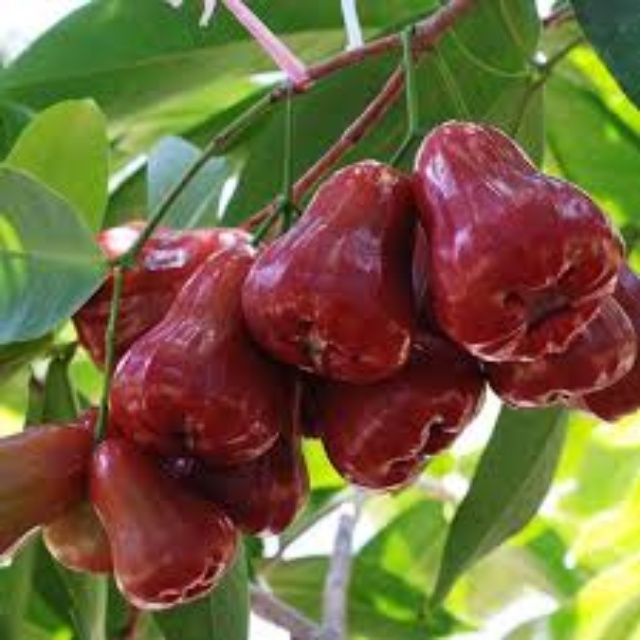xoai: (393, 109, 618, 354), (98, 233, 309, 463), (244, 143, 418, 388), (80, 432, 257, 611)
